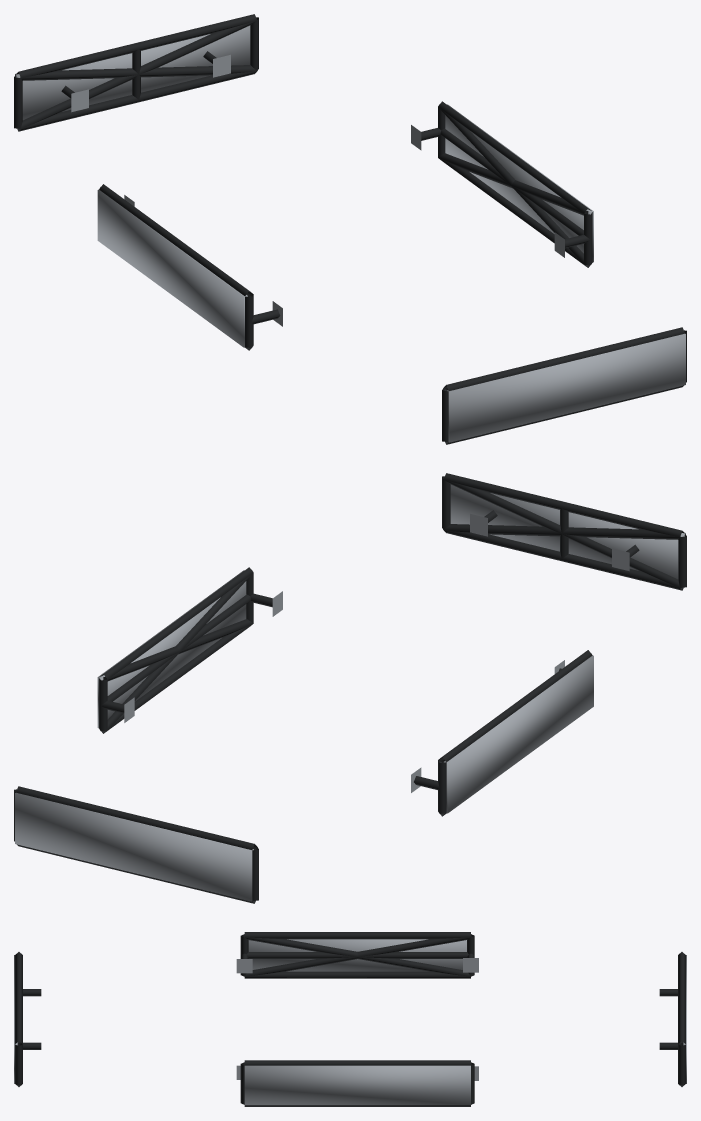
File: rauhe_rutilo_protecao.glb
3 renders of one model, top to bottom at view 1: azimuth 30°, elevation 25°; view 2: azimuth 150°, elevation 25°; view 3: azimuth 270°, elevation 25°, orthographic. The views are drawn at different scales.
Visible parts, largest first — view 1: Protection_front_Level3_Details, Protection_left_Level3_Details, Protection_rear_Level1_Details, Protection_rear_Level3_Details, Protection_right_Level1_Details, Protection_rear_Level2_Details, Protection_right_Level2_Details, Protection_right_Level3_Details, Protection_front_Level1_Details, Protection_left_Level1_Details; view 2: Protection_rear_Level3_Details, Protection_left_Level3_Details, Protection_front_Level1_Details, Protection_front_Level3_Details, Protection_right_Level1_Details, Protection_front_Level2_Details, Protection_right_Level2_Details, Protection_right_Level3_Details, Protection_rear_Level1_Details, Protection_left_Level1_Details; view 3: Protection_right_Level3_Details, Protection_left_Level1_Details, Protection_left_Level2_Details, Protection_left_Level3_Details, Protection_right_Level1_Details, Protection_rear_Level1_Details, Protection_front_Level1_Details.
Part boxes in pixels (<box>): Protection_front_Level3_Details: <box>447,333,685,442</box>; Protection_left_Level3_Details: <box>97,189,247,347</box>; Protection_rear_Level1_Details: <box>14,14,258,131</box>; Protection_rear_Level3_Details: <box>15,25,250,120</box>; Protection_right_Level1_Details: <box>411,101,592,267</box>; Protection_rear_Level2_Details: <box>16,20,256,130</box>; Protection_right_Level2_Details: <box>438,107,591,267</box>; Protection_right_Level3_Details: <box>445,104,593,262</box>; Protection_front_Level1_Details: <box>442,327,686,444</box>; Protection_left_Level1_Details: <box>99,184,282,350</box>; Protection_rear_Level3_Details: <box>15,792,253,901</box>; Protection_left_Level3_Details: <box>443,655,593,813</box>; Protection_front_Level1_Details: <box>442,473,686,590</box>; Protection_front_Level3_Details: <box>450,484,685,579</box>; Protection_right_Level1_Details: <box>99,567,282,733</box>; Protection_front_Level2_Details: <box>444,479,684,589</box>; Protection_right_Level2_Details: <box>100,573,253,733</box>; Protection_right_Level3_Details: <box>97,570,246,728</box>; Protection_rear_Level1_Details: <box>14,786,258,903</box>; Protection_left_Level1_Details: <box>411,650,592,816</box>; Protection_right_Level3_Details: <box>244,1065,470,1105</box>; Protection_left_Level1_Details: <box>236,932,478,978</box>; Protection_left_Level2_Details: <box>244,935,471,976</box>; Protection_left_Level3_Details: <box>248,939,466,971</box>; Protection_right_Level1_Details: <box>236,1060,478,1106</box>; Protection_rear_Level1_Details: <box>659,952,685,1086</box>; Protection_front_Level1_Details: <box>15,952,41,1086</box>.
Bounding box in the file's own units: 2.16 × 0.354 × 4.64.
1 material, 1 textured.
